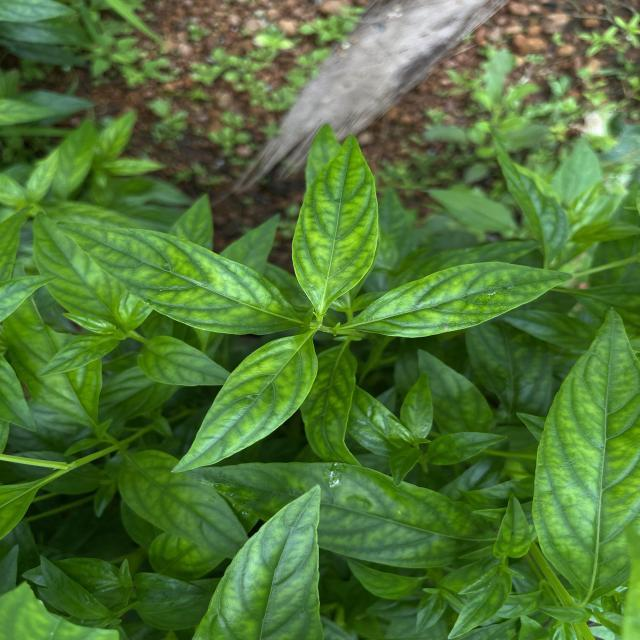Andrographis paniculata: (527, 309, 640, 597), (193, 461, 479, 566), (52, 217, 288, 338), (165, 332, 318, 478), (350, 258, 578, 343), (288, 130, 384, 316), (117, 450, 253, 559)
